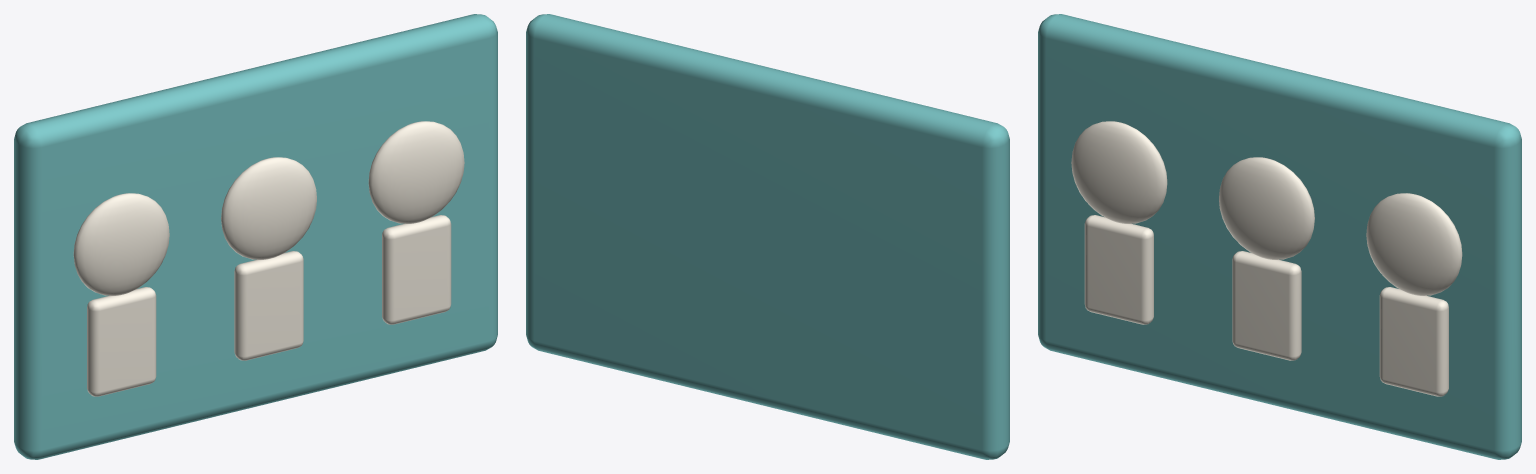
The model's file is FamilyCard.fbx.
3 renders of one model, left to right at view 1: azimuth 30°, elevation 25°; view 2: azimuth 150°, elevation 25°; view 3: azimuth 330°, elevation 25°, orthographic.
Parts seen in each view (by area): view 1: FamilyCard, FamilyIcon.002, FamilyIcon, FamilyIcon.001, FamilyBody, FamilyBody.002, FamilyBody.001; view 2: FamilyCard; view 3: FamilyCard, FamilyIcon, FamilyIcon.002, FamilyIcon.001, FamilyBody.002, FamilyBody, FamilyBody.001.
Part boxes in pixels (x1,y1,x2,y2): FamilyCard: (14, 14, 497, 459); FamilyIcon.002: (368, 121, 464, 223); FamilyIcon: (73, 193, 169, 295); FamilyIcon.001: (221, 157, 316, 259); FamilyBody: (87, 287, 156, 396); FamilyBody.002: (382, 215, 451, 324); FamilyBody.001: (234, 251, 303, 360); FamilyCard: (526, 14, 1009, 459); FamilyCard: (1038, 14, 1521, 459); FamilyIcon: (1071, 121, 1167, 223); FamilyIcon.002: (1366, 193, 1462, 295); FamilyIcon.001: (1219, 157, 1314, 259); FamilyBody.002: (1379, 287, 1448, 396); FamilyBody: (1084, 215, 1153, 324); FamilyBody.001: (1232, 251, 1301, 360).
Bounding box in the file's own units: 21 × 14 × 2.35.
